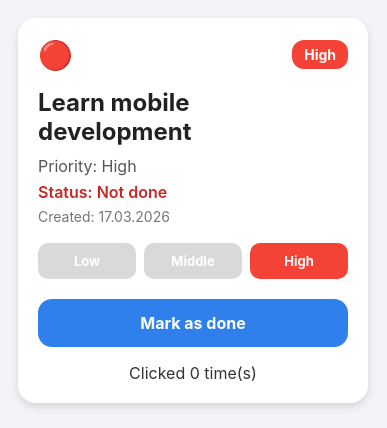
HomeScreen › increments counter on every press
The image size is (387, 428).
Click the text "Mark as done" at (193, 322), box [140,312,246,332]
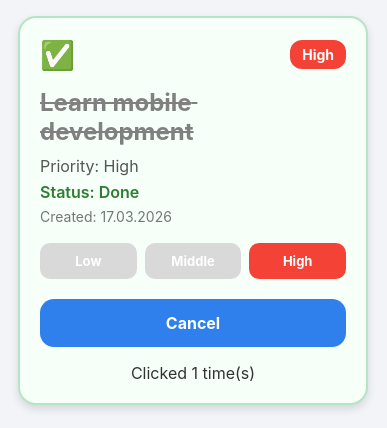
Click the text "Cancel" at (193, 322), box [166,312,220,332]
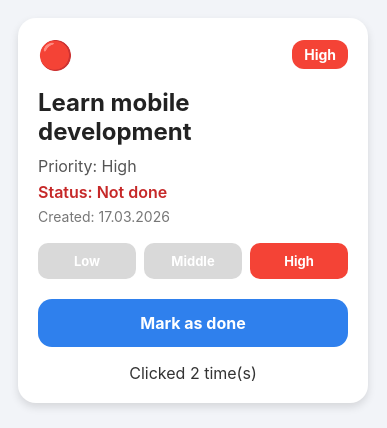
Click the text "Mark as done" at (193, 322), box [140,312,246,332]
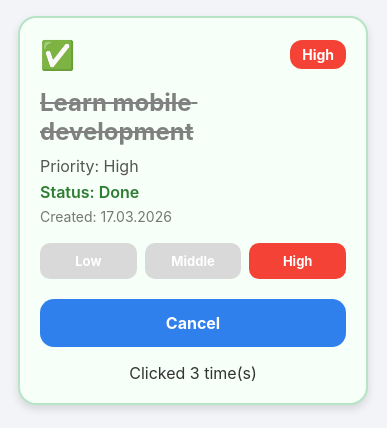
Result: the text "Clicked 3 time(s)" is shown at [129,362,257,382]
